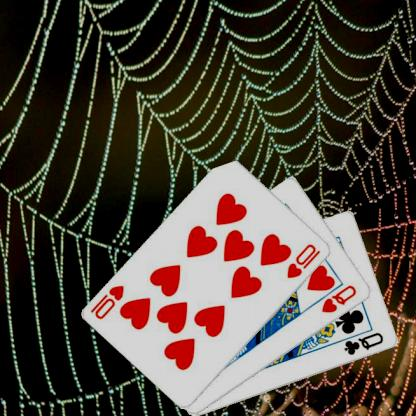10H: (90, 282, 128, 322), (286, 241, 324, 280)
QC: (343, 329, 387, 357)
QH: (321, 282, 360, 314)
